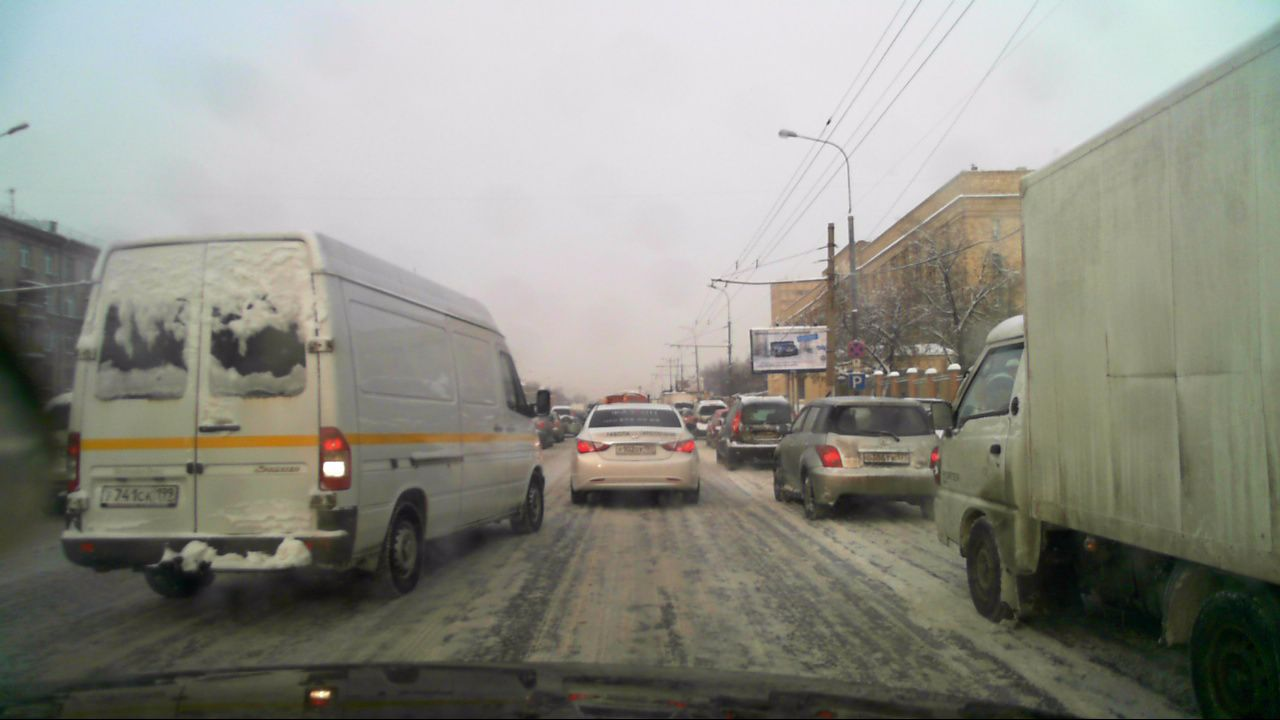No Parking: (844, 338, 867, 358)
